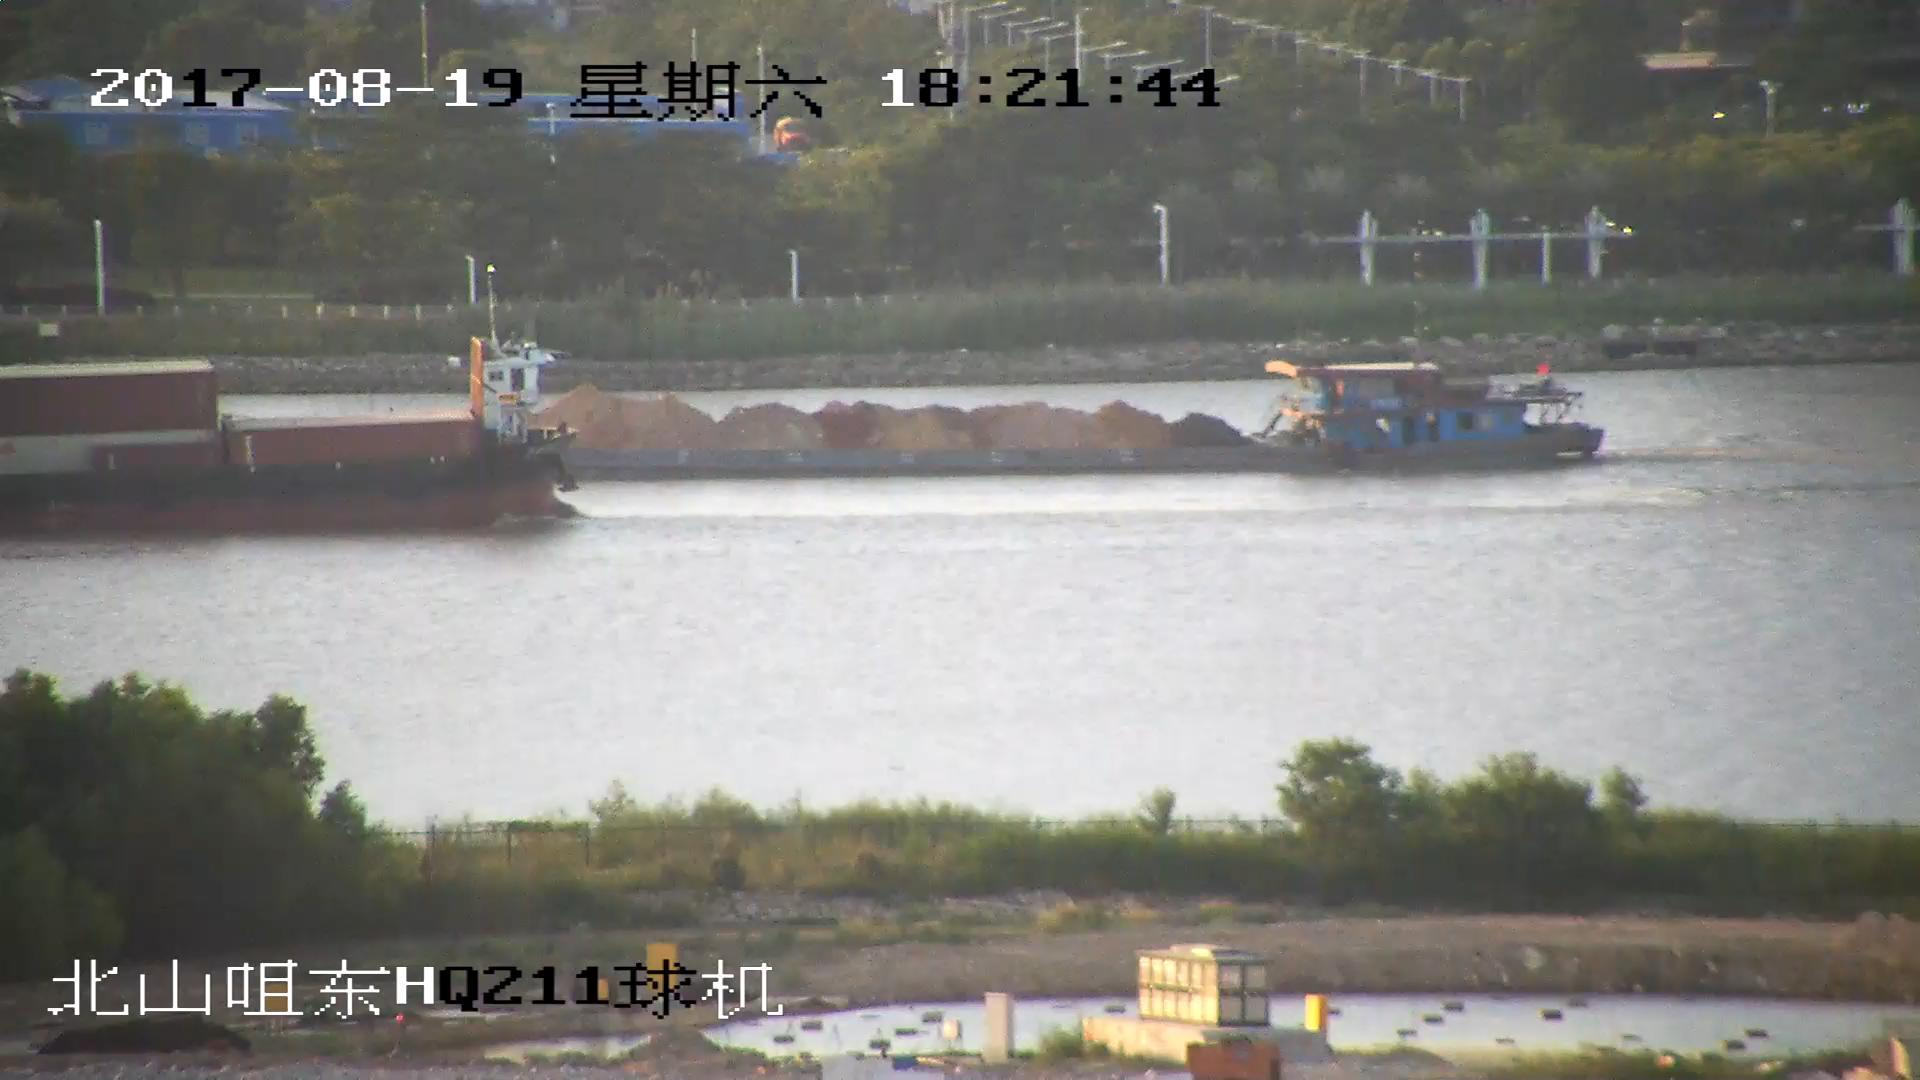Ship: (541, 355, 1602, 473), (3, 336, 579, 542)
